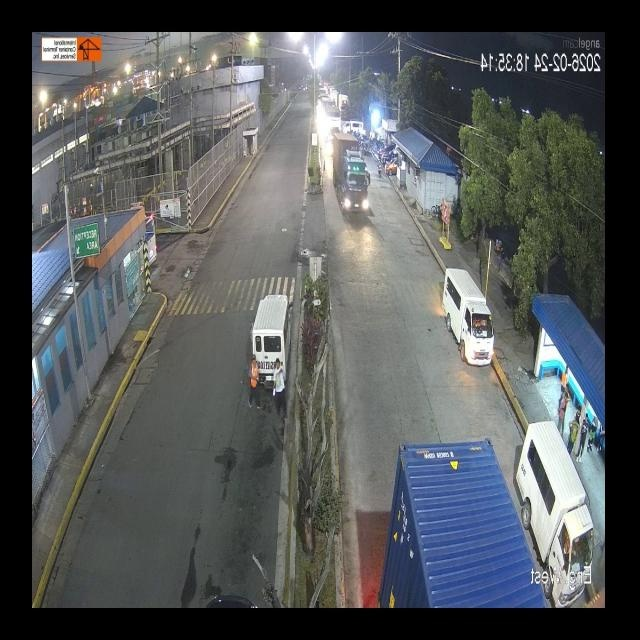car: (525, 452, 587, 570), (442, 275, 496, 373), (257, 295, 286, 381)
truck: (330, 136, 370, 223)
